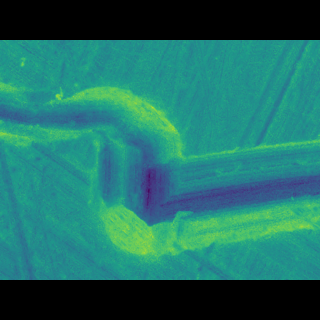Loch: (0, 96, 320, 233)
